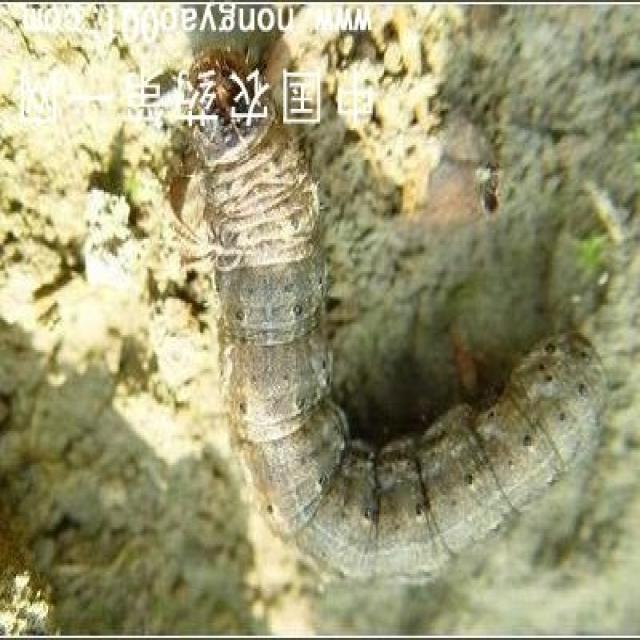black cutworm: (171, 54, 606, 592)
